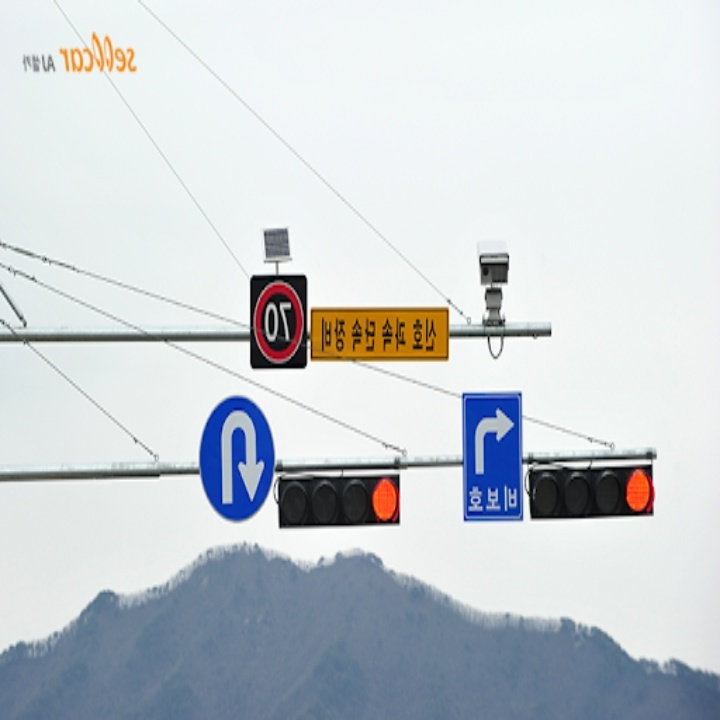right: (467, 405, 520, 478)
